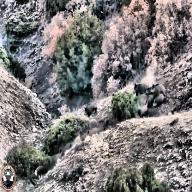boar: (150, 79, 170, 99), (130, 78, 150, 96), (82, 102, 102, 118)
